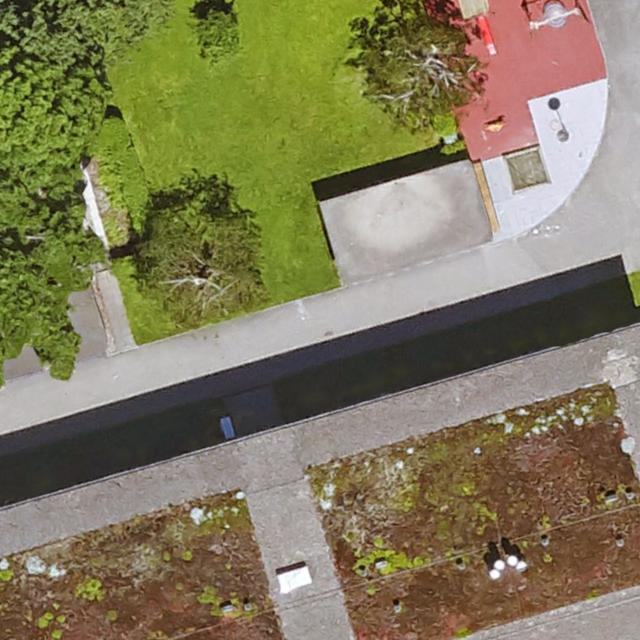tree: (0, 1, 100, 216), (138, 183, 263, 322), (358, 2, 480, 121), (0, 254, 71, 382), (194, 5, 241, 57)
